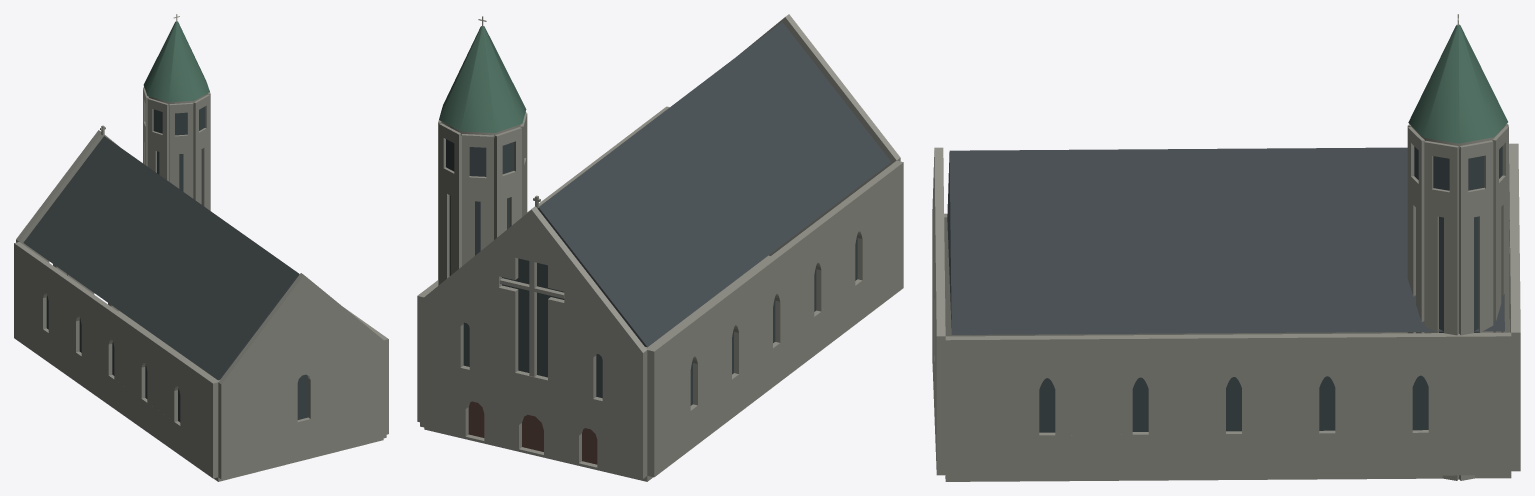
The model's file is eglise-saint-lambert-far.glb.
3 views of the same model, side by side, from view 1: azimuth 30°, elevation 25°; view 2: azimuth 150°, elevation 25°; view 3: azimuth 270°, elevation 25° (orthographic). The views are drawn at different scales.
Visible parts, largest first — view 1: eglise-saint-lambert-0-stone, eglise-saint-lambert-0-roof, eglise-saint-lambert-0-copper, eglise-saint-lambert-0-glass; view 2: eglise-saint-lambert-0-stone, eglise-saint-lambert-0-roof, eglise-saint-lambert-0-glass, eglise-saint-lambert-0-copper, eglise-saint-lambert-0-door; view 3: eglise-saint-lambert-0-stone, eglise-saint-lambert-0-roof, eglise-saint-lambert-0-glass, eglise-saint-lambert-0-copper.
Boxes of the visible parts, x1,y1,x2,y2 form: eglise-saint-lambert-0-stone: [14, 87, 388, 481]; eglise-saint-lambert-0-roof: [23, 136, 299, 380]; eglise-saint-lambert-0-copper: [143, 21, 209, 102]; eglise-saint-lambert-0-glass: [46, 106, 308, 422]; eglise-saint-lambert-0-stone: [417, 14, 903, 481]; eglise-saint-lambert-0-roof: [537, 22, 890, 347]; eglise-saint-lambert-0-glass: [446, 139, 857, 405]; eglise-saint-lambert-0-copper: [439, 26, 526, 132]; eglise-saint-lambert-0-door: [468, 401, 597, 464]; eglise-saint-lambert-0-stone: [932, 123, 1520, 481]; eglise-saint-lambert-0-roof: [947, 147, 1504, 334]; eglise-saint-lambert-0-glass: [1039, 146, 1502, 432]; eglise-saint-lambert-0-copper: [1408, 24, 1507, 143].
Bounding box in the file's own units: 22.45 × 35.8 × 42.87.
